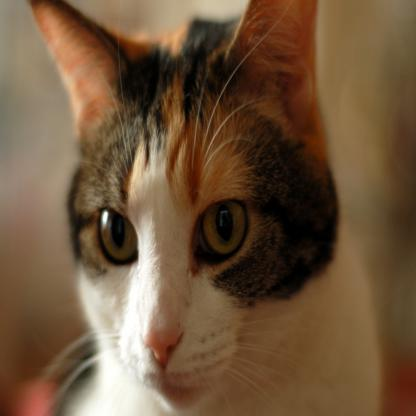cat: (32, 0, 334, 415)
